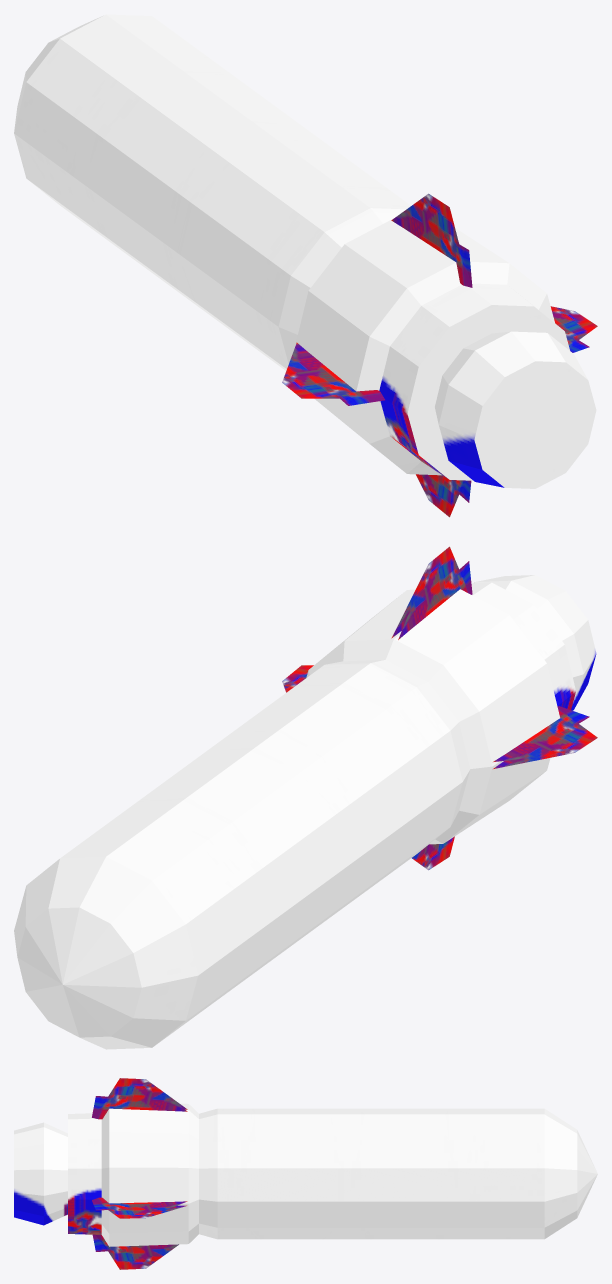
The model's file is fx_c121_proj_trail__fx_fbx_rocket_04_low.glb.
3 views of the same model, one above another, from view 1: azimuth 30°, elevation 25°; view 2: azimuth 150°, elevation 25°; view 3: azimuth 270°, elevation 25° (orthographic). The views are drawn at different scales.
Visible parts, largest first — view 1: fx_c121_proj_trail; view 2: fx_c121_proj_trail; view 3: fx_c121_proj_trail.
Part boxes in pixels (left/top/right/bottom): fx_c121_proj_trail: left=14, top=14, right=597, bottom=517; fx_c121_proj_trail: left=14, top=546, right=597, bottom=1049; fx_c121_proj_trail: left=14, top=1078, right=597, bottom=1269.
Size of the model in its own units: 0.5195 by 0.5195 by 1.43.
1 material, 1 textured.
